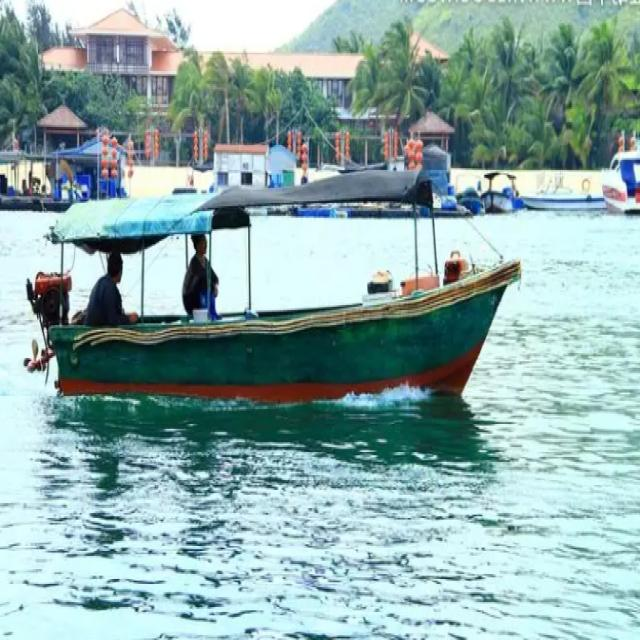fishing boat: (31, 164, 522, 404)
